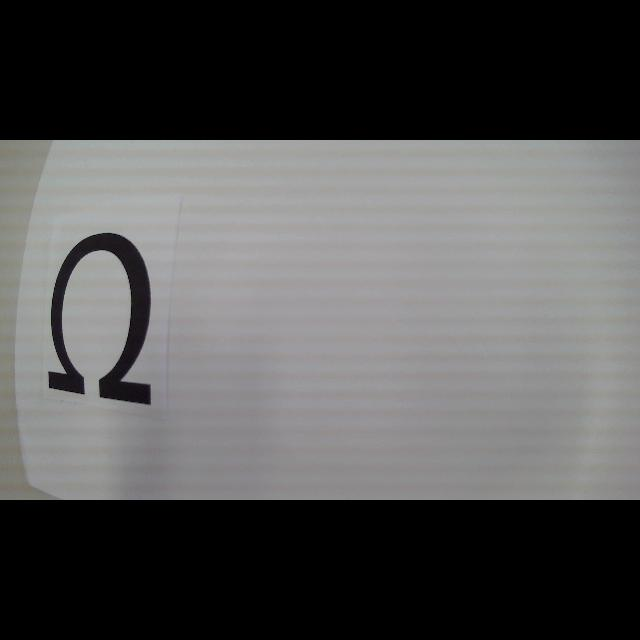OMEGA: (48, 232, 152, 406)
